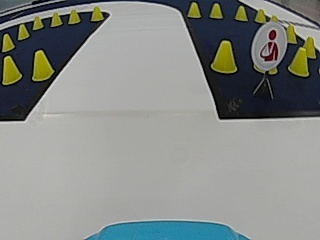cone: (211, 40, 238, 74), (31, 50, 52, 82), (287, 48, 308, 77), (2, 56, 23, 84), (66, 8, 81, 25), (284, 24, 298, 42), (208, 3, 223, 18), (90, 7, 104, 23), (2, 33, 13, 52), (236, 5, 247, 23), (50, 14, 64, 28), (19, 23, 30, 40), (188, 3, 201, 17), (255, 8, 267, 21), (33, 15, 43, 29)
patient: (258, 21, 284, 72)
